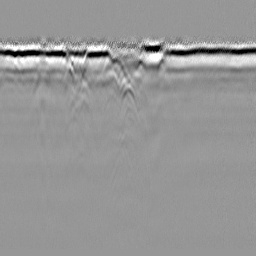cavity: (118, 83, 138, 110)
